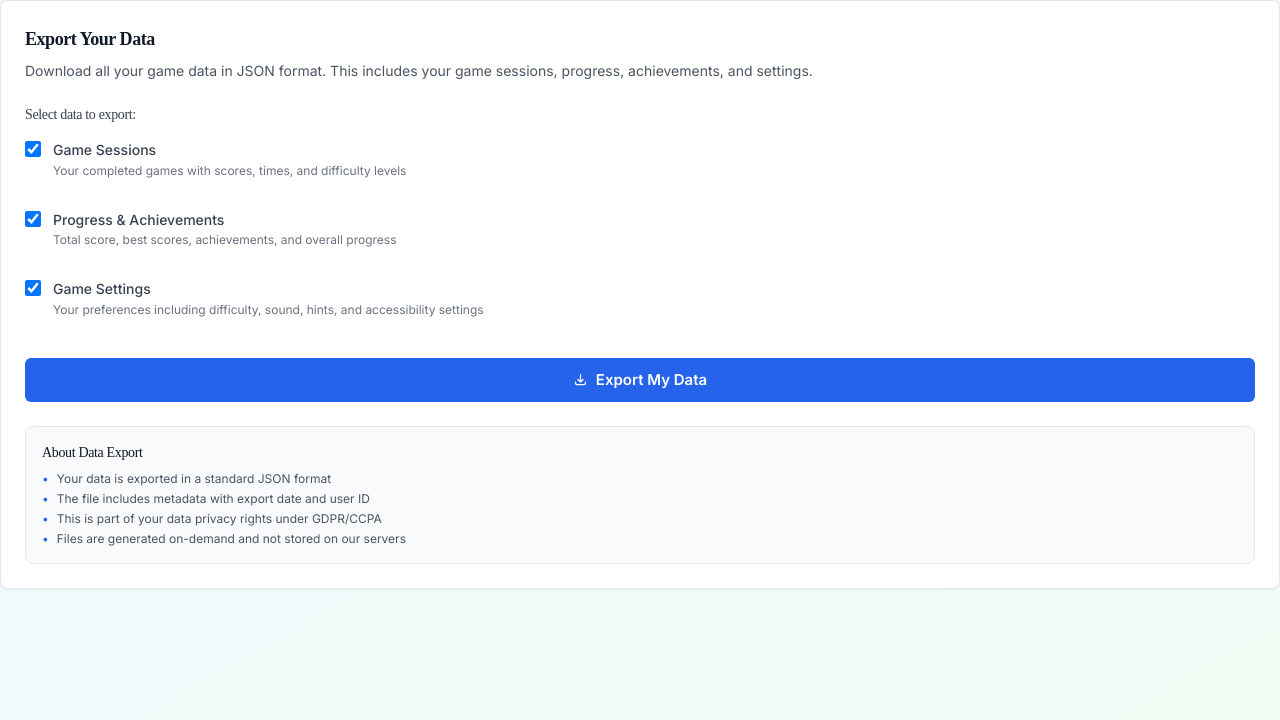
Scenario: ExportData Component › Error Handling › should display error when fetch fails
Click the button "Export My Data": point(640, 380) top-left (25, 358), bottom-right (1255, 402)
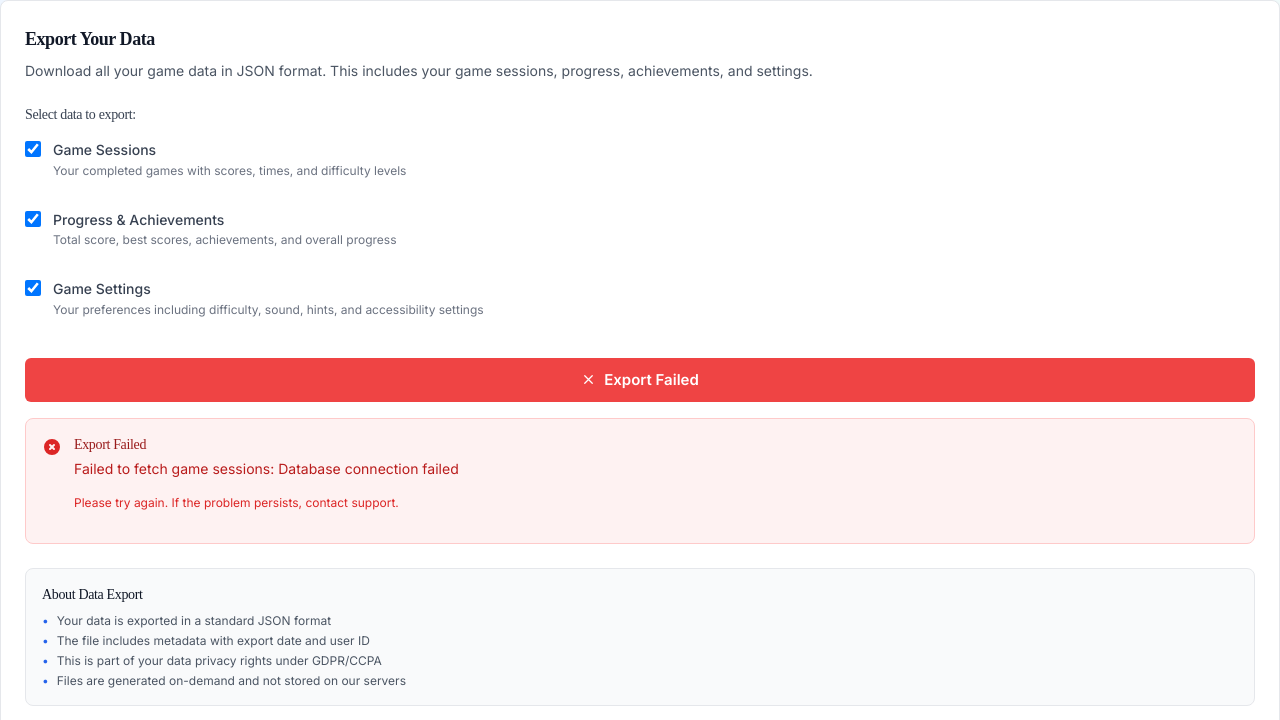
Expected: the text "Failed to fetch game sessions: Database connection failed" is shown, top-left (74, 459), bottom-right (459, 479)
